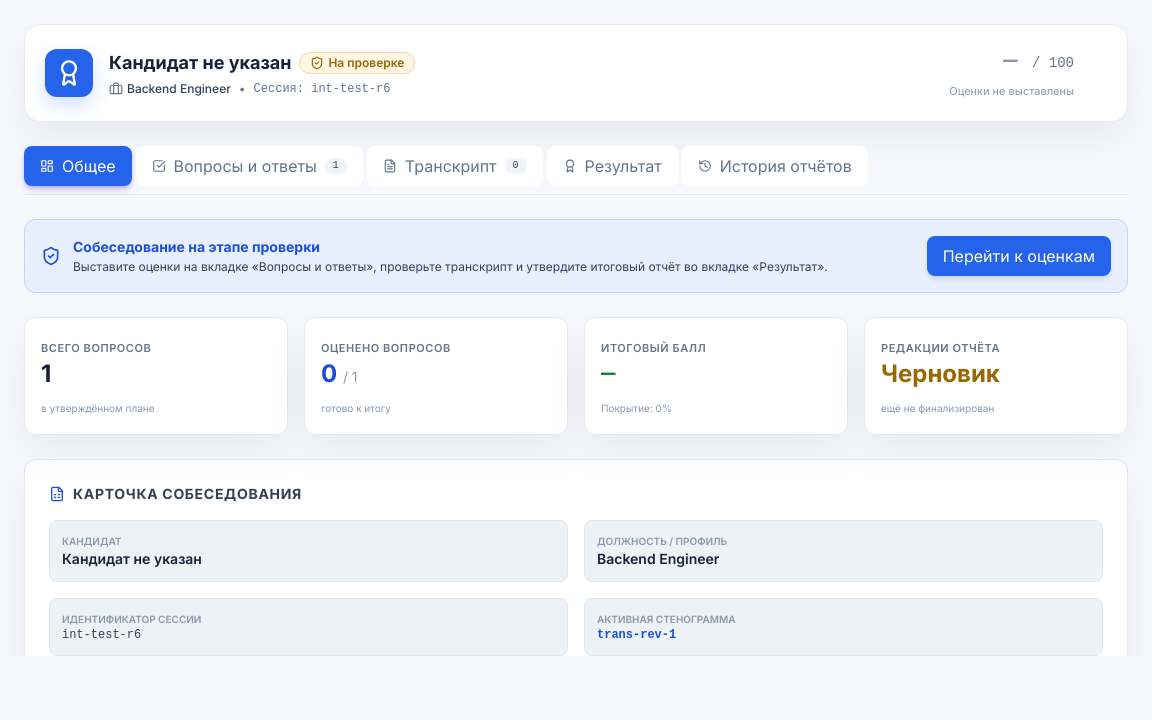
Test: ReviewScreen Batch Retranscribe (R6) › restores active BATCH_RETRANSCRIBE job on mount and displays progress
Click the text "Транскрипт". click: (451, 166)
box: [405,154,497,178]
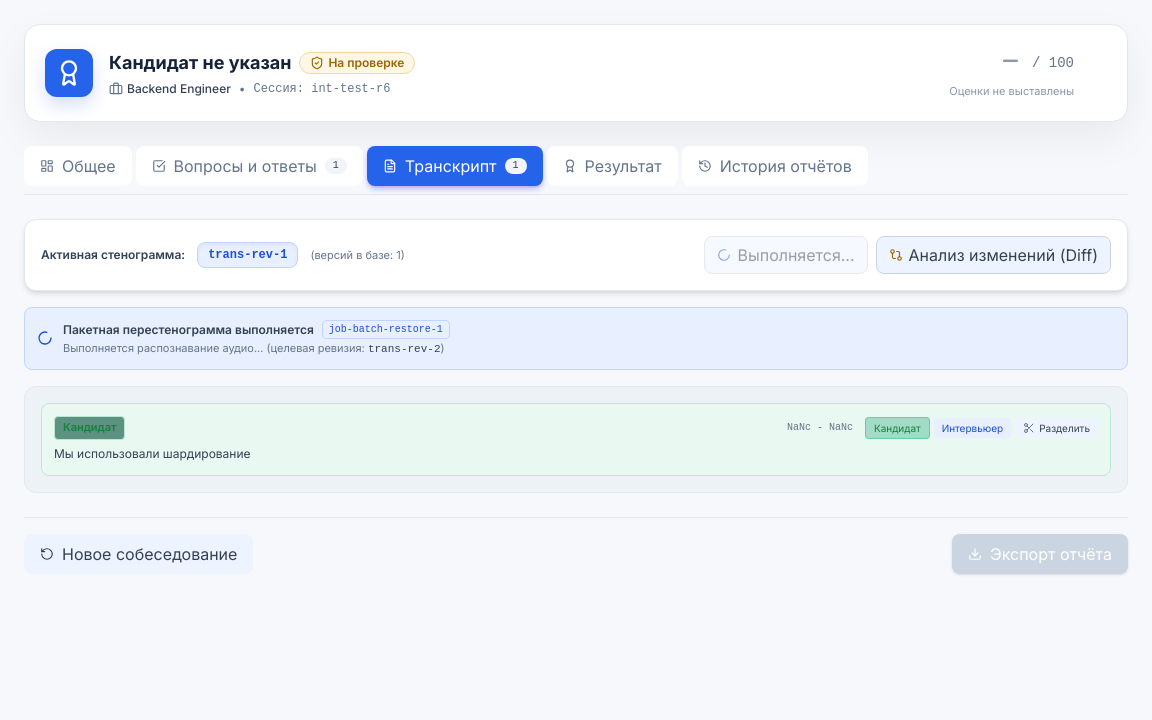
Result: the text "job-batch-restore-1" is shown at [322,320,450,339]
Result: the text "Пакетная перестенограмма выполняется" is shown at [63,322,314,338]
